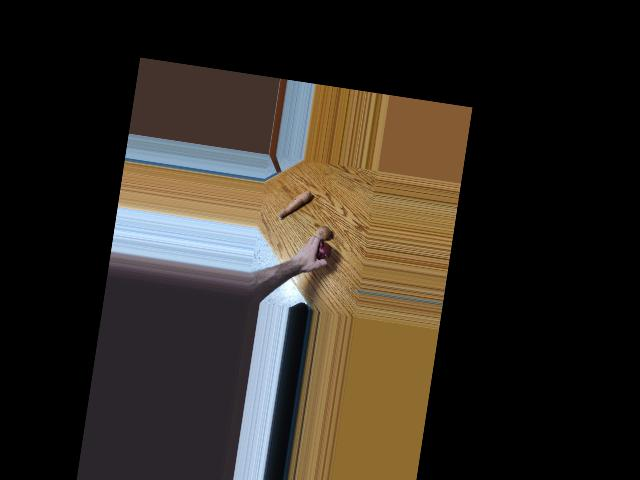onion: (314, 224, 332, 241)
